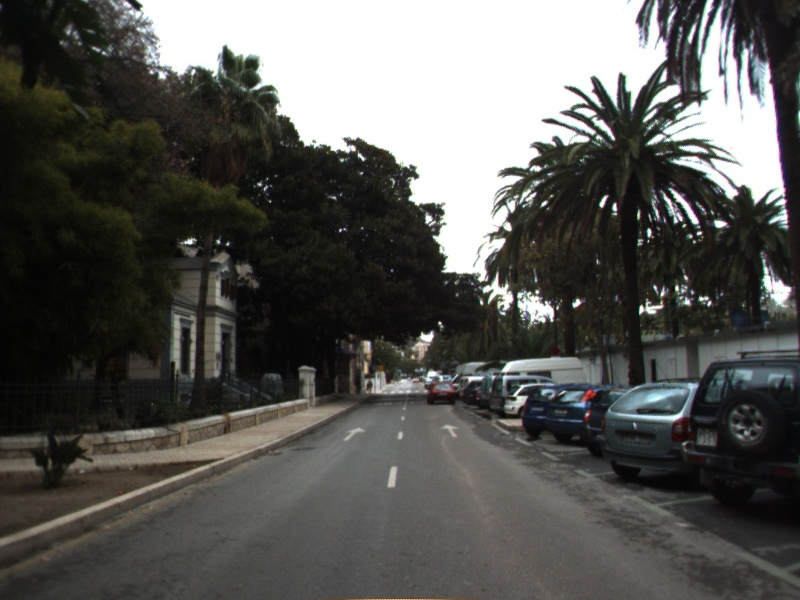STRAIGHT: (341, 425, 368, 443), (437, 422, 462, 439)
